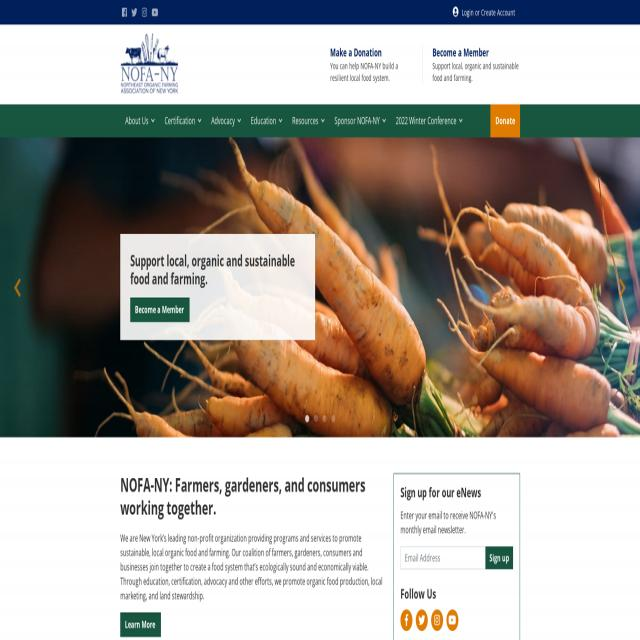button: (120, 34, 178, 96), (391, 104, 467, 137), (329, 104, 391, 137), (447, 0, 520, 24), (160, 104, 206, 137), (130, 298, 189, 322), (245, 104, 287, 137), (287, 104, 329, 137), (120, 104, 160, 137), (206, 104, 246, 137), (120, 612, 161, 636), (490, 104, 520, 136), (485, 546, 513, 569), (614, 272, 630, 302), (10, 272, 26, 302), (400, 610, 412, 630), (416, 610, 428, 630), (431, 610, 443, 630), (446, 610, 458, 630), (150, 2, 159, 22), (120, 2, 128, 22), (130, 2, 138, 22), (140, 2, 148, 22), (304, 413, 310, 425), (313, 413, 319, 425), (321, 413, 327, 425), (330, 413, 336, 425)
field: (400, 546, 486, 569)
